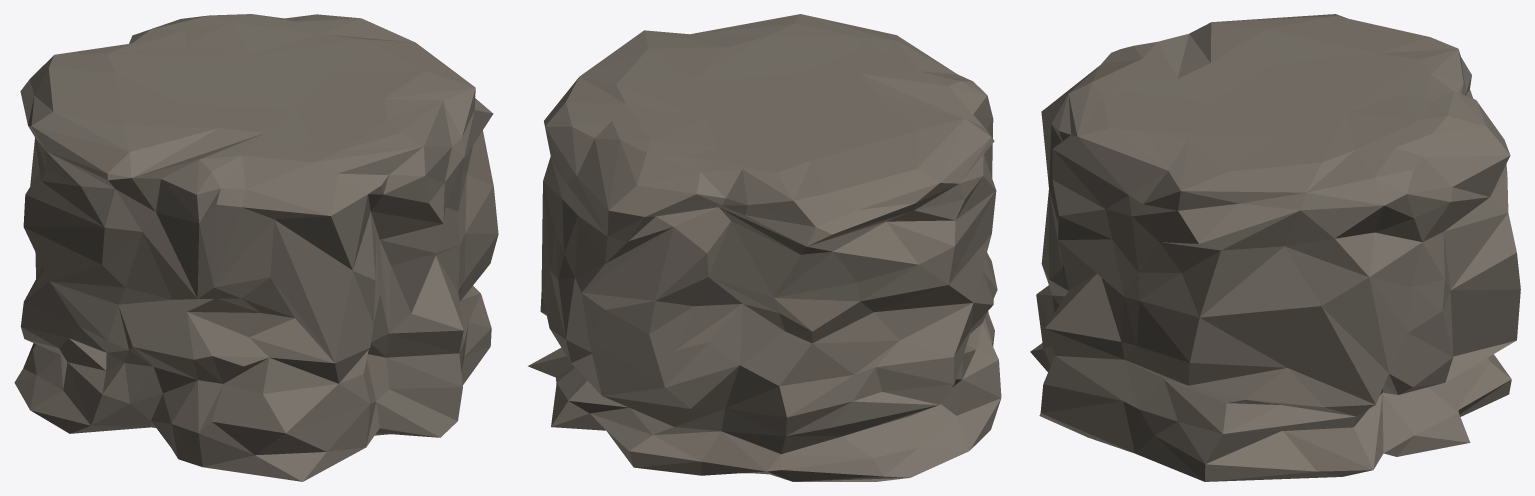
Rendered from SM_Env_Rock_Large_07.glb.
3 views of the same model, side by side, from view 1: azimuth 30°, elevation 25°; view 2: azimuth 150°, elevation 25°; view 3: azimuth 270°, elevation 25° (orthographic).
Visible parts, largest first — view 1: SM_Env_Rock_Large_07_part00; view 2: SM_Env_Rock_Large_07_part00; view 3: SM_Env_Rock_Large_07_part00.
Part boxes in pixels (left/top/right/bottom): SM_Env_Rock_Large_07_part00: left=14, top=14, right=498, bottom=481; SM_Env_Rock_Large_07_part00: left=528, top=14, right=1001, bottom=481; SM_Env_Rock_Large_07_part00: left=1030, top=14, right=1520, bottom=481.
Size of the model in its own units: 5.93 by 4.01 by 6.06.
Materials: 1 (1 with a texture image).
